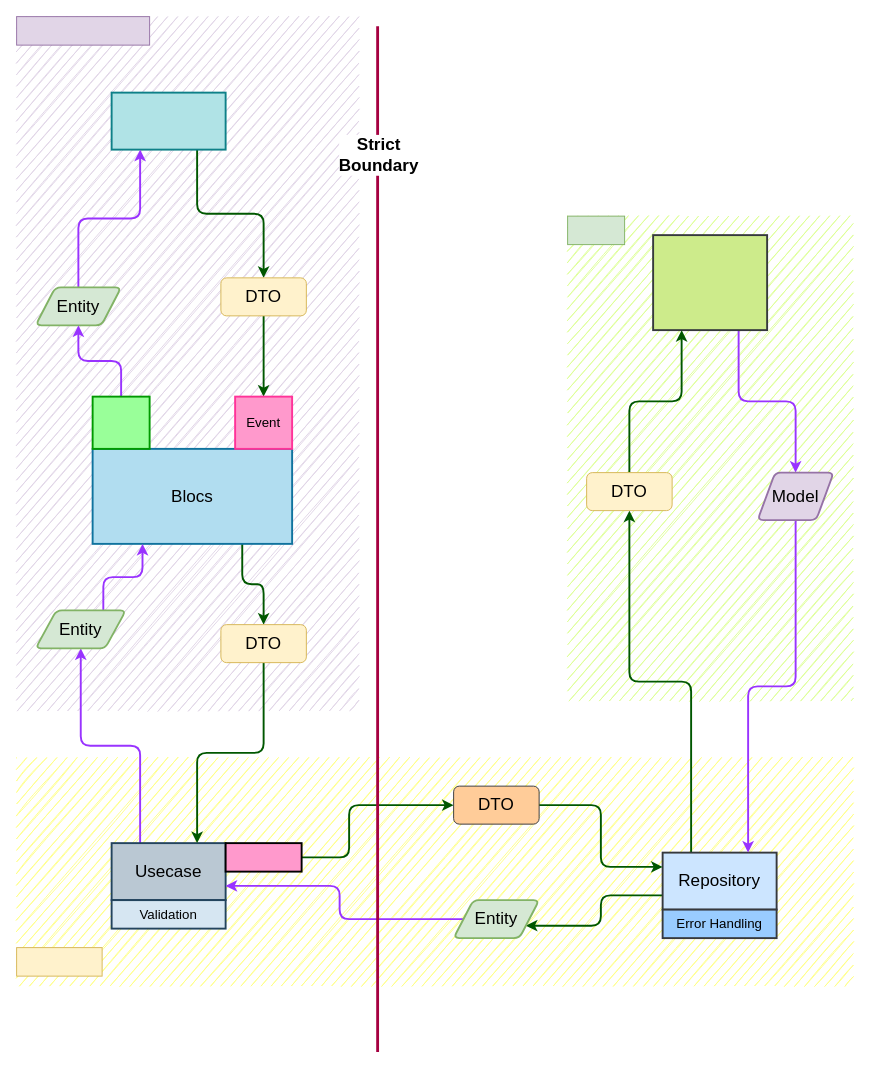
Image size: 869x1071. Some labels were removed from this diagram. The centre of each missing label's shape, as x and y in pixels:
"Check*" goes at pixel 263 857.
"Data" goes at pixel 596 230.
"Domain" goes at pixel 59 961.
"Presentation" goes at pixel 83 30.
"Sources Local | Remote" goes at pixel 710 282.
"State" goes at pixel 120 422.
"UI (Pages | Widgets)" goes at pixel 168 120.
